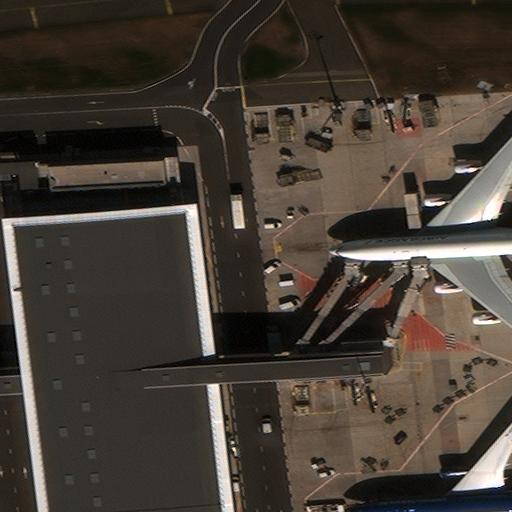Large Civil Transport: (328, 133, 511, 339), (345, 417, 511, 511)
